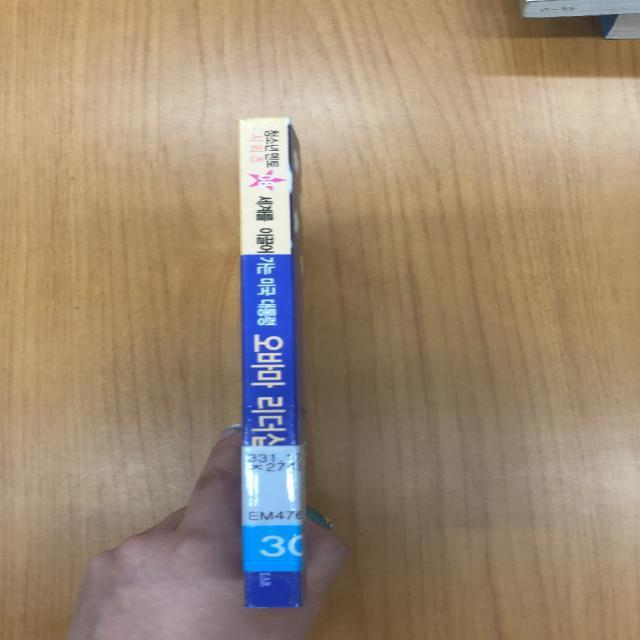Wornout: (241, 599, 306, 612), (231, 112, 267, 127)
